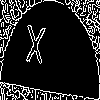X: (25, 25, 46, 74)
